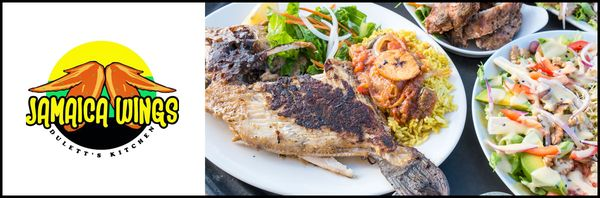curry: (200, 2, 595, 195)
sandwich: (206, 3, 465, 189), (471, 28, 597, 194)
